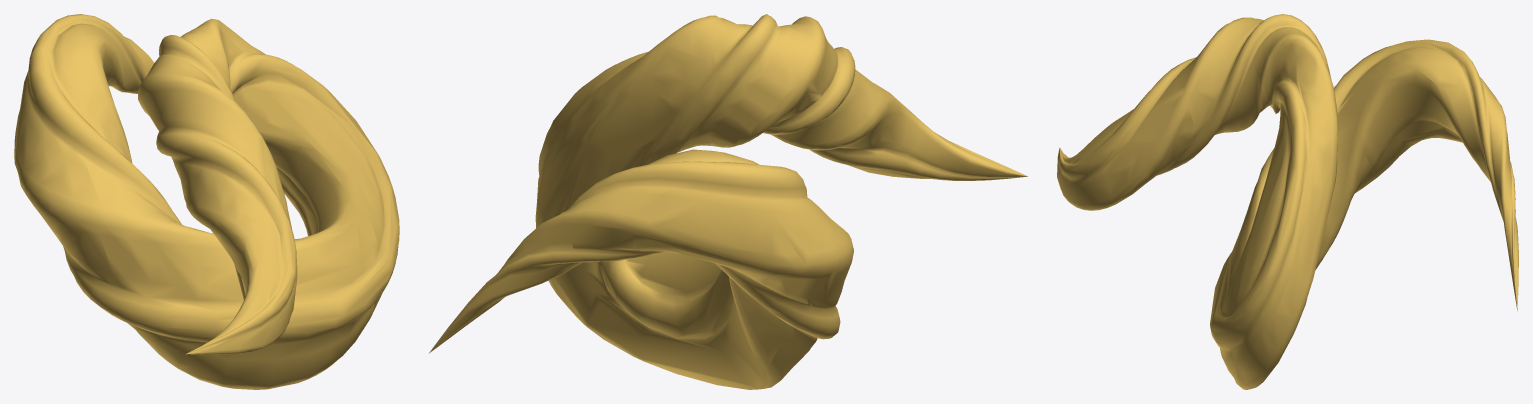
Rendered from QF_Glyph.glb.
The picture shows the model from 3 angles, left to right: view 1: azimuth 30°, elevation 25°; view 2: azimuth 150°, elevation 25°; view 3: azimuth 270°, elevation 25°; orthographic projection. The views are drawn at different scales.
Visible parts, largest first — view 1: QF Glyphs; view 2: QF Glyphs; view 3: QF Glyphs.
Part boxes in pixels (<box>): QF Glyphs: <box>14,14,399,389</box>; QF Glyphs: <box>429,14,1027,389</box>; QF Glyphs: <box>1057,14,1518,389</box>.
Size of the model in its own units: 0.2879 by 0.303 by 0.3934.
